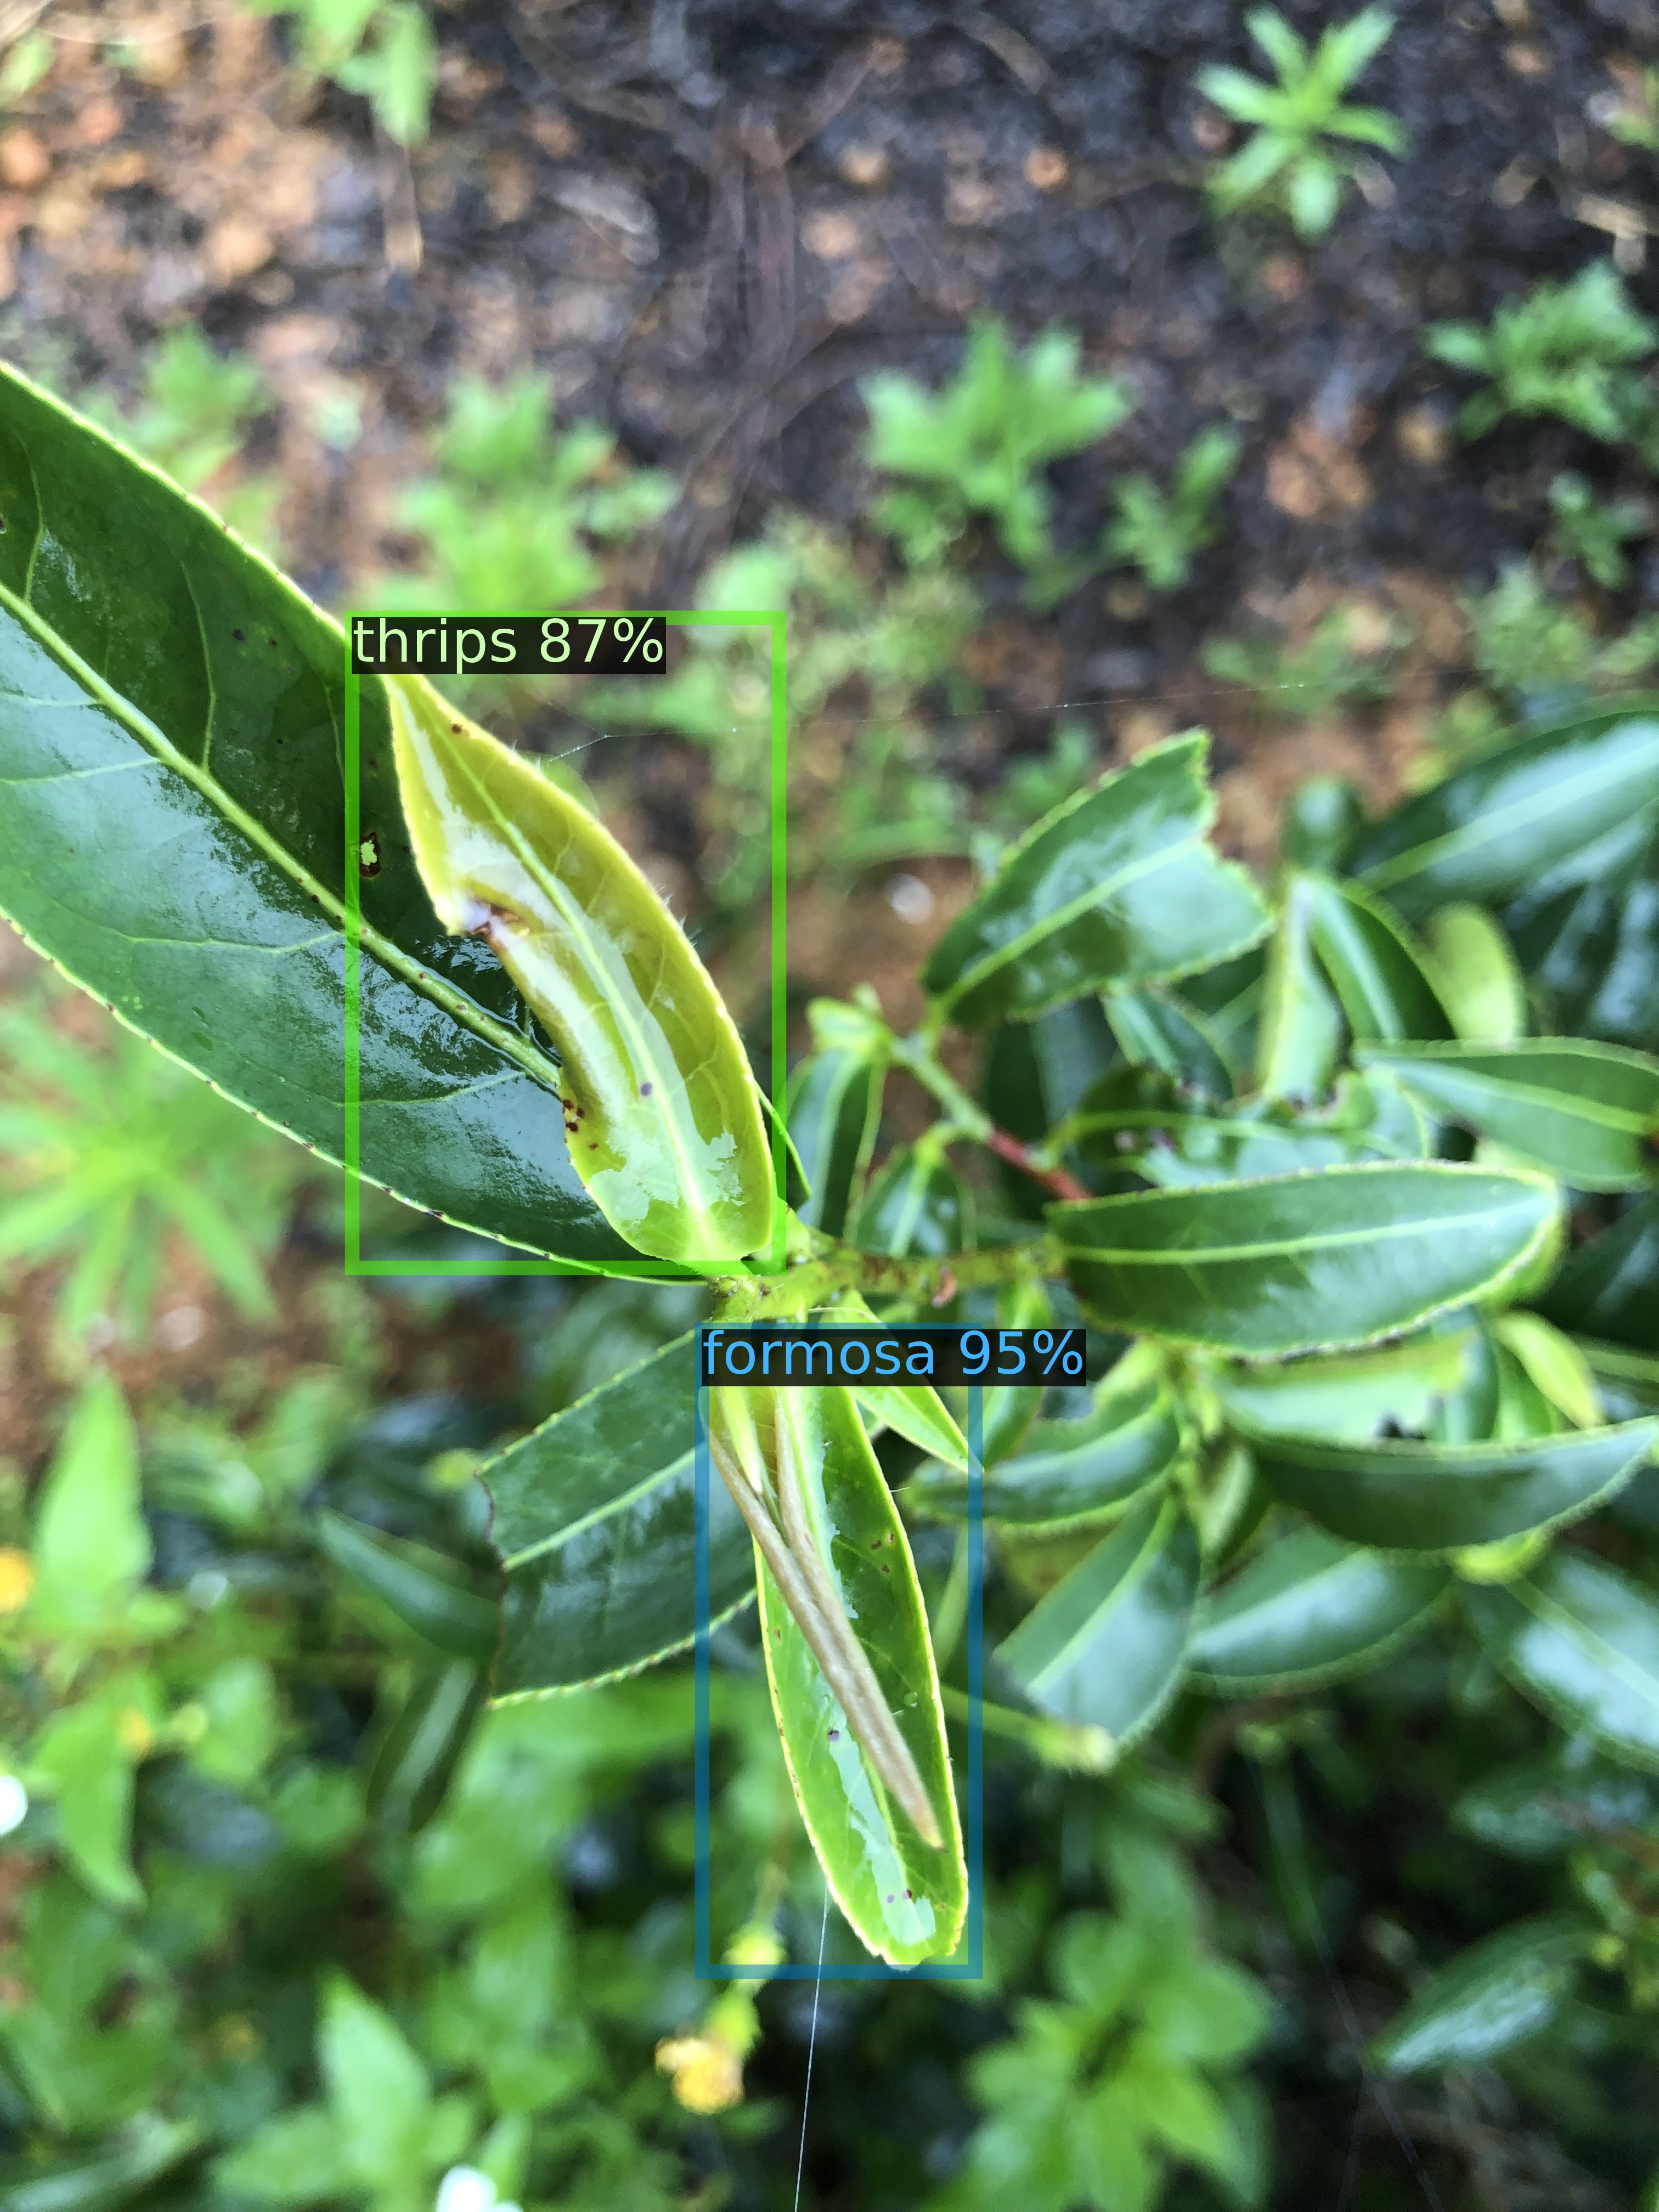formosa: (702, 1331, 974, 1972)
thrips: (352, 618, 779, 1268)
